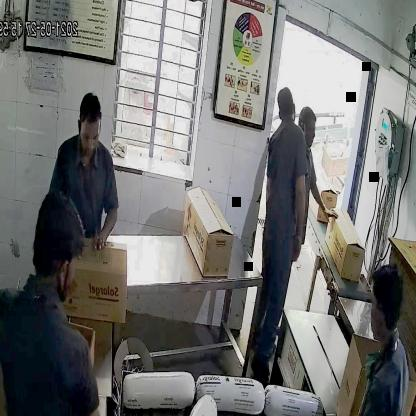no_goggles: (76, 125, 104, 147)
